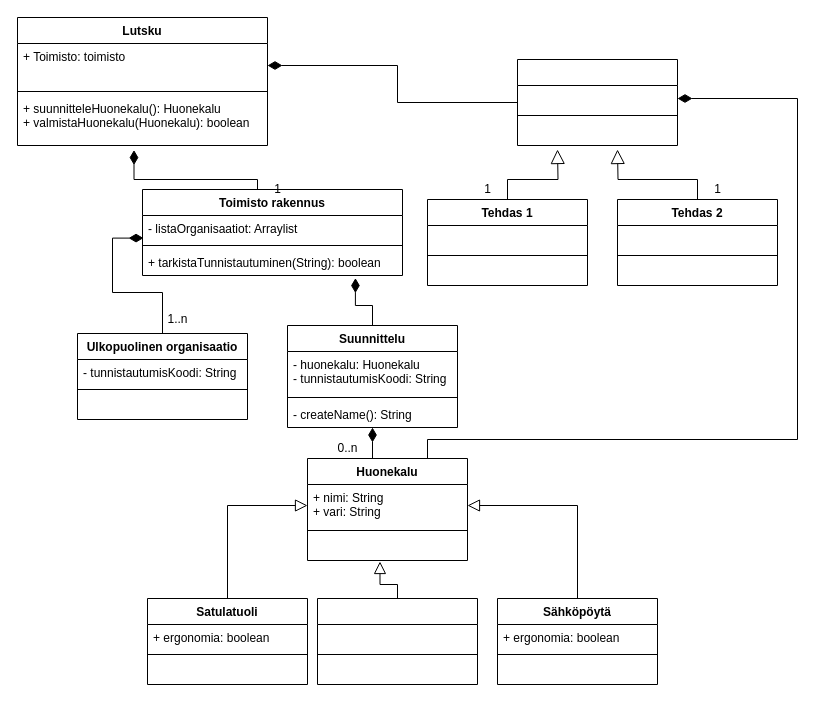
The diagram is 829 pixels wide and 705 high, and some of its shapes have lost their labels. Each missing label, with the centre of its shape:
"Sohva" belongs at [397,641].
"Tehdas" belongs at [597,102].
